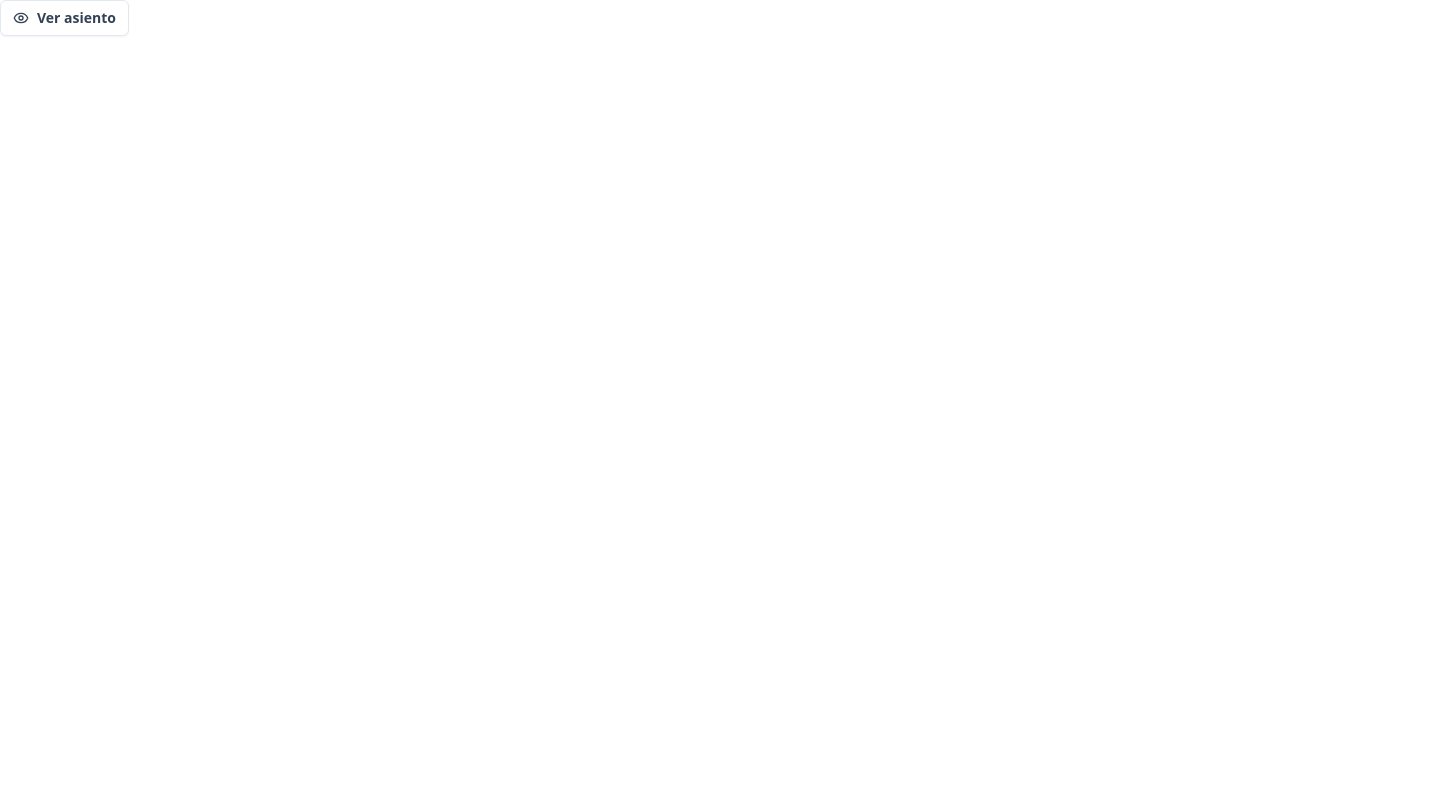
Test: FacturaAsientoViewer › genera una previsualización en memoria sin presentarla como asiento real
The width and height of the screenshot is (1440, 810).
Click the button "Ver asiento". click: (64, 18)
box: [0,0,129,36]
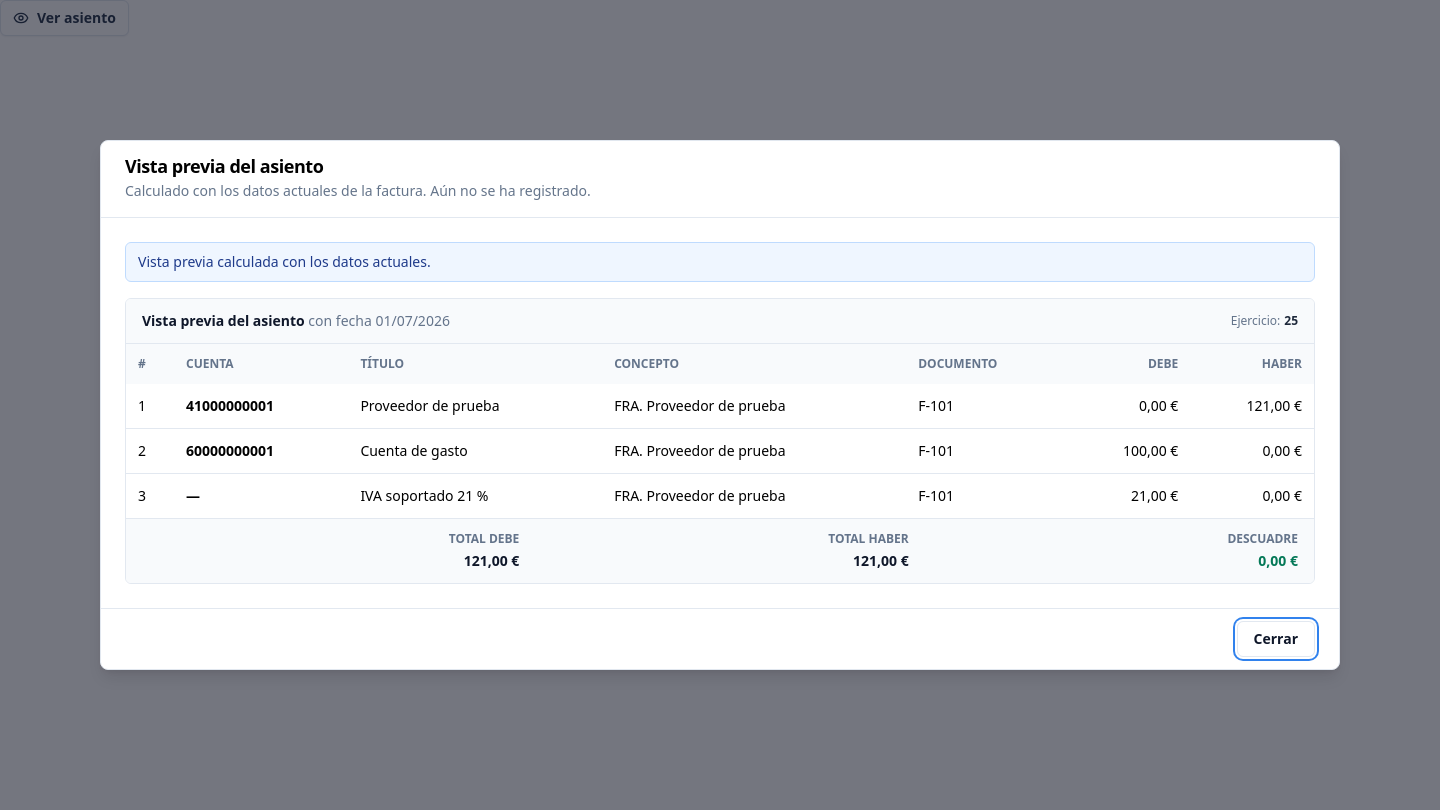
Result: the heading "Vista previa del asiento" is shown at [125,154,323,178]
Result: the text "Calculado con los datos actuales de la factura. Aún no se ha registrado." is shown at [125,181,591,200]
Result: the text "Vista previa calculada con los datos actuales." is shown at [138,252,431,272]
